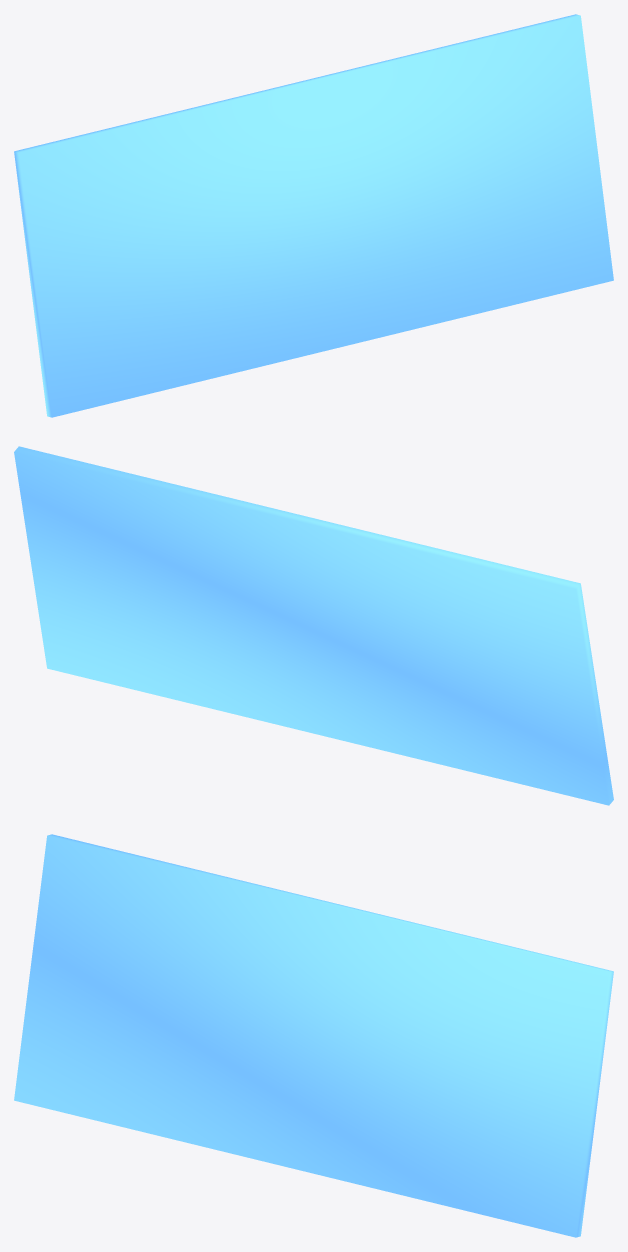
File: GEO_Cockpit_Driver_Instrument_Cluster_OLED.glb
3 renders of one model, top to bottom at view 1: azimuth 30°, elevation 25°; view 2: azimuth 150°, elevation 25°; view 3: azimuth 330°, elevation 25°, orthographic.
Parts seen in each view (by area): view 1: GEO_Cockpit_Driver_Instrument_Cluster_OLED; view 2: GEO_Cockpit_Driver_Instrument_Cluster_OLED; view 3: GEO_Cockpit_Driver_Instrument_Cluster_OLED.
Part boxes in pixels (x1,y1,x2,y2): GEO_Cockpit_Driver_Instrument_Cluster_OLED: (14,14,613,417); GEO_Cockpit_Driver_Instrument_Cluster_OLED: (14,446,613,805); GEO_Cockpit_Driver_Instrument_Cluster_OLED: (14,834,613,1237).
Size of the model in its own units: 0.32 by 0.1322 by 0.0375.
